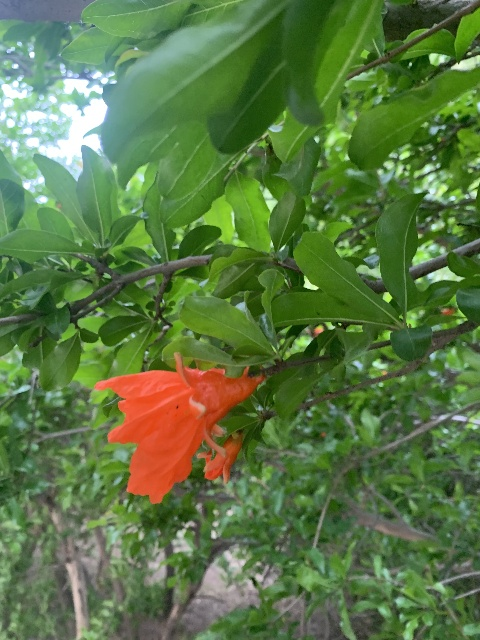flower: (93, 351, 263, 503), (200, 430, 243, 483)
